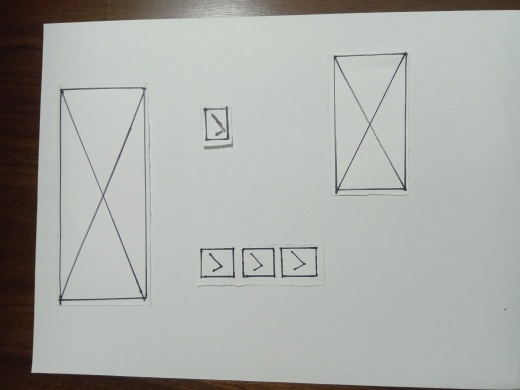checkbox: (281, 247, 319, 280), (200, 251, 231, 277), (242, 249, 273, 275), (206, 108, 228, 143)
img: (58, 90, 145, 298), (329, 51, 405, 194)
